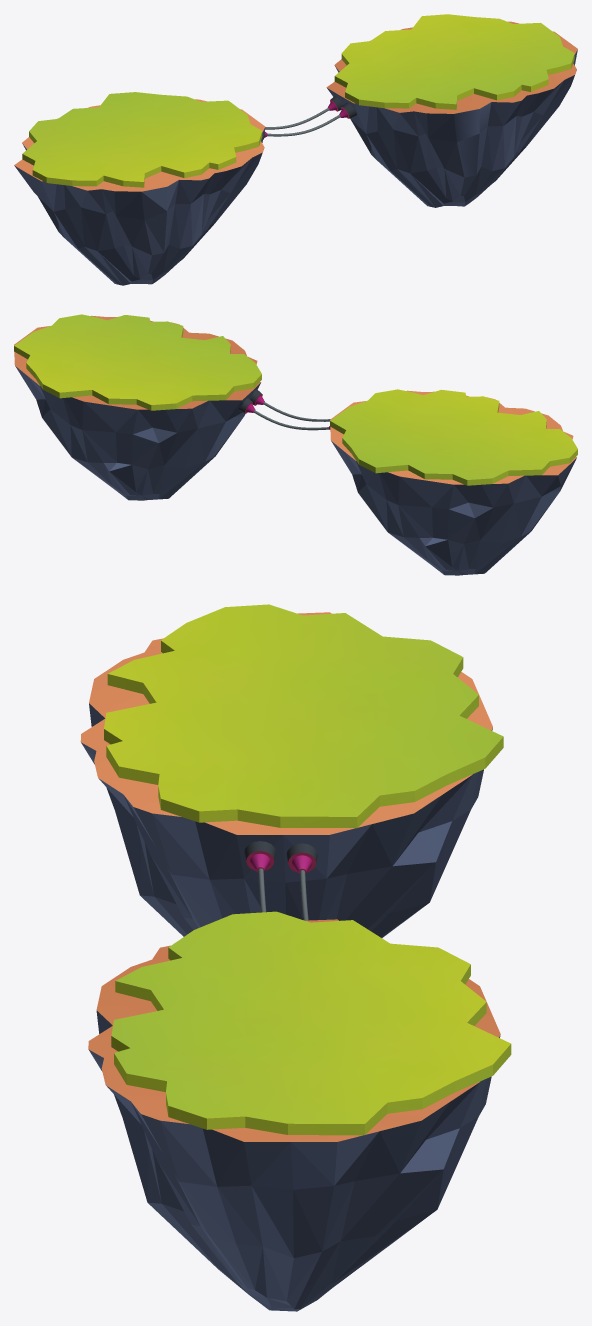
File: DoubleIsland.fbx
3 renders of one model, top to bottom at view 1: azimuth 30°, elevation 25°; view 2: azimuth 150°, elevation 25°; view 3: azimuth 270°, elevation 25°, orthographic. The views are drawn at different scales.
Parts seen in each view (by area): view 1: Double_Island; view 2: Double_Island; view 3: Double_Island.
Boxes of the visible parts, <box> form: Double_Island: <box>14,14,577,285</box>; Double_Island: <box>14,314,577,575</box>; Double_Island: <box>80,604,511,1311</box>.
Bounding box in the file's own units: 3635 × 909 × 1250.
